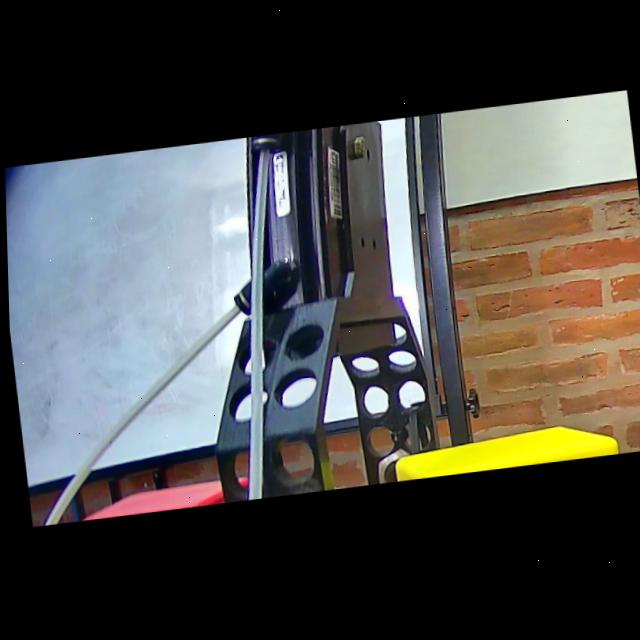redBox: (72, 478, 260, 521)
yellowBox: (389, 421, 626, 484)
